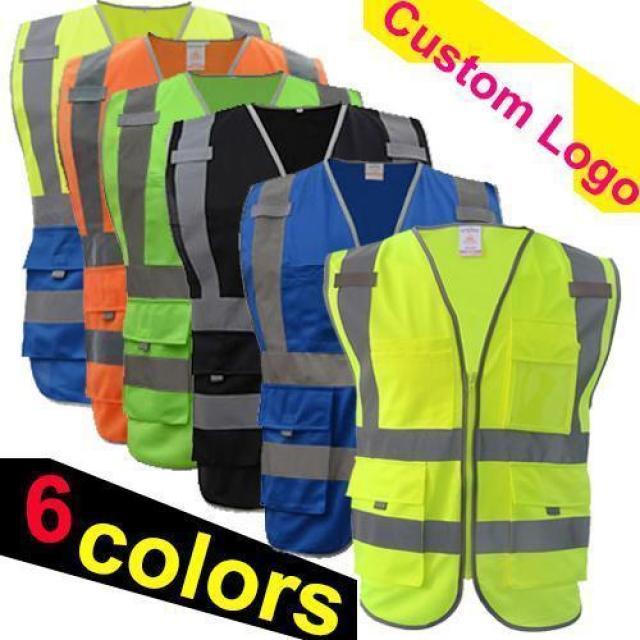Vest: (320, 224, 618, 628), (54, 36, 325, 445), (165, 105, 434, 509), (96, 69, 362, 471), (8, 6, 272, 404), (238, 163, 506, 554)
